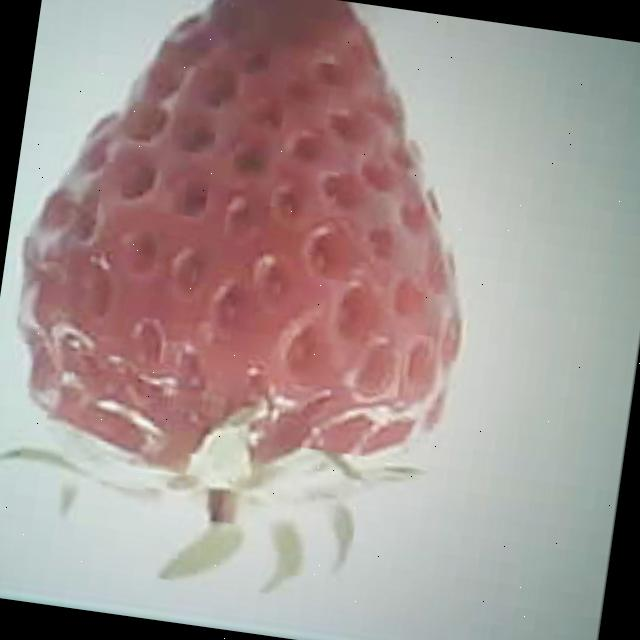strawberry: (0, 0, 504, 527)
